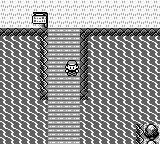captura: (80, 36, 159, 143), (0, 36, 48, 143)
leer: (33, 13, 48, 27)
main: (65, 61, 79, 76)
mo: (80, 28, 159, 100), (0, 28, 48, 100), (137, 124, 144, 143)
no-caminable: (144, 124, 159, 143)
